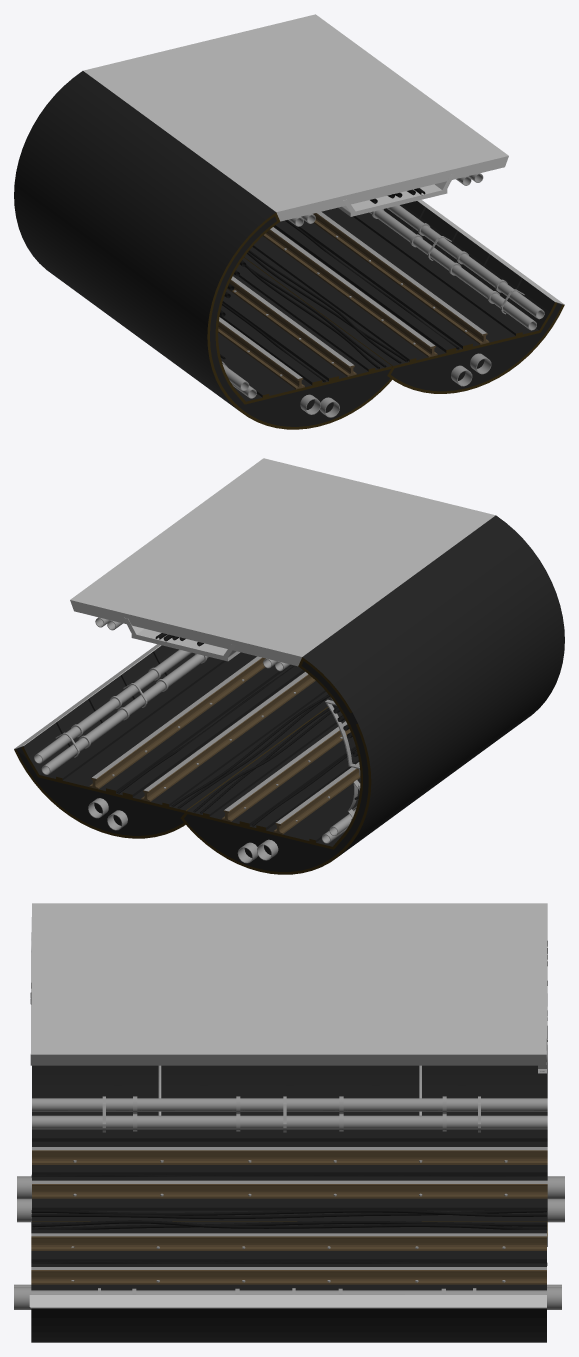
The model's file is TUNNELPART2FINAL.fbx.
The picture shows the model from 3 angles, top to bottom: view 1: azimuth 30°, elevation 25°; view 2: azimuth 150°, elevation 25°; view 3: azimuth 270°, elevation 25°; orthographic projection. The views are drawn at different scales.
Visible parts, largest first — view 1: polySurfaceShape1014; view 2: polySurfaceShape1014; view 3: polySurfaceShape1014.
Boxes of the visible parts, left/top/right/bottom form: polySurfaceShape1014: left=14, top=14, right=564, bottom=429; polySurfaceShape1014: left=14, top=458, right=564, bottom=874; polySurfaceShape1014: left=14, top=903, right=564, bottom=1342.
Size of the model in its own units: 320 by 192 by 320.
